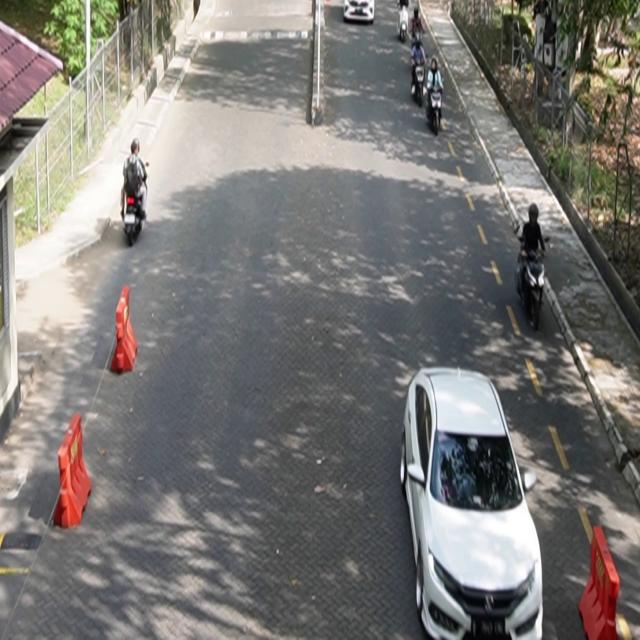car: (400, 366, 545, 640)
